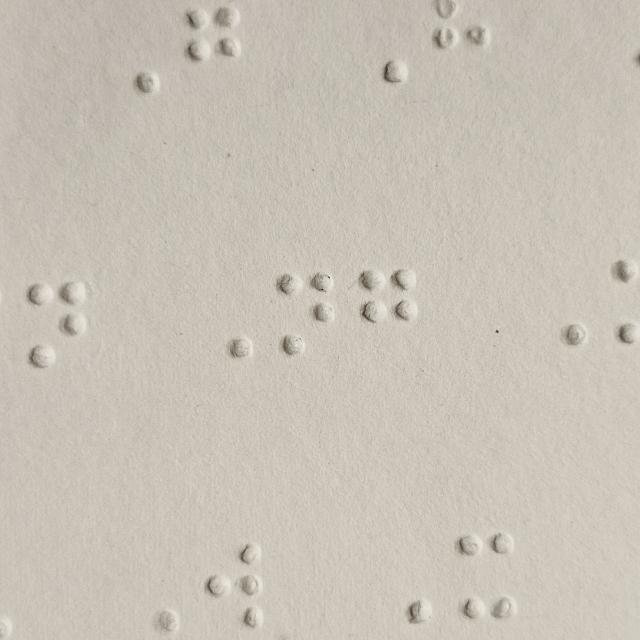capital_sign: (105, 11, 163, 95), (197, 275, 255, 359), (123, 550, 180, 634), (353, 2, 410, 85), (378, 543, 435, 626)
letter_G: (185, 5, 242, 89), (360, 270, 417, 354)
letter_H: (433, 0, 490, 84)
letter_N: (278, 273, 335, 356)
letter_W: (207, 543, 265, 626)
letter_Y: (457, 535, 515, 618)
